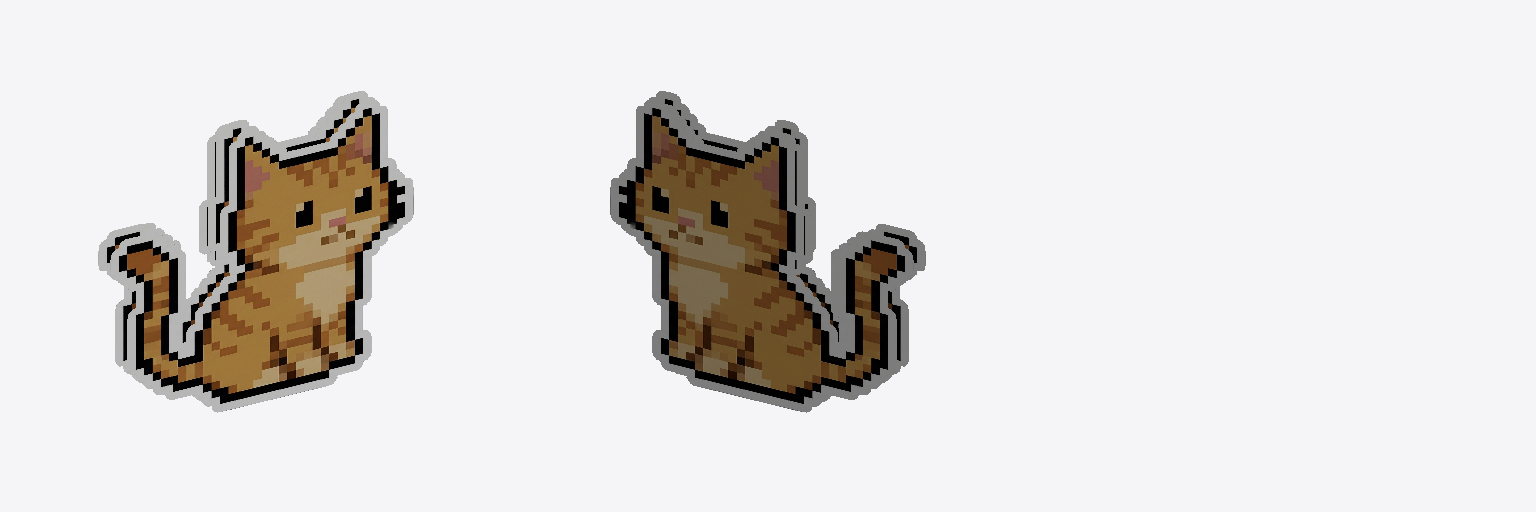
3 renders of one model, left to right at view 1: azimuth 30°, elevation 25°; view 2: azimuth 150°, elevation 25°; view 3: azimuth 270°, elevation 25°, orthographic.
Parts seen in each view (by area): view 1: cat2; view 2: cat2; view 3: none.
Part boxes in pixels (x1,y1,x2,y2): cat2: (98,91,413,412); cat2: (610,91,925,412).
Bounding box in the file's own units: 1.12 × 1 × 0.0775.
2 materials, 2 textured.